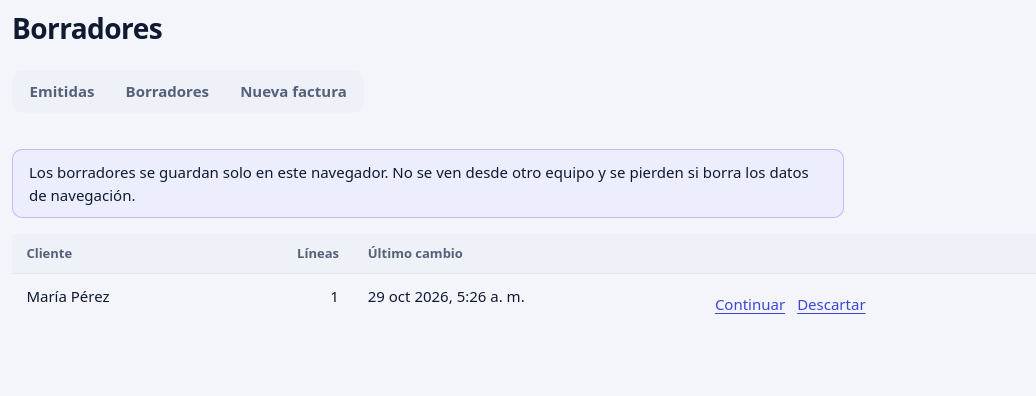
Test: Borradores › lists this tenant's drafts and lets the user continue or discard them
Expected: the text "María Pérez" is shown, [12,274,221,327]
Click the button named "Descartar el borrador de María Pérez" at (831, 304), box [797,293,866,316]
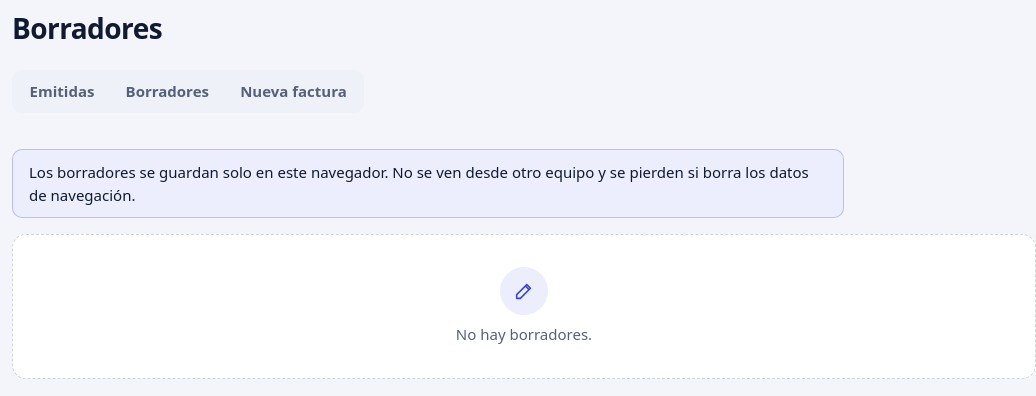
Expected: the text "No hay borradores." is shown, [456,323,592,346]
